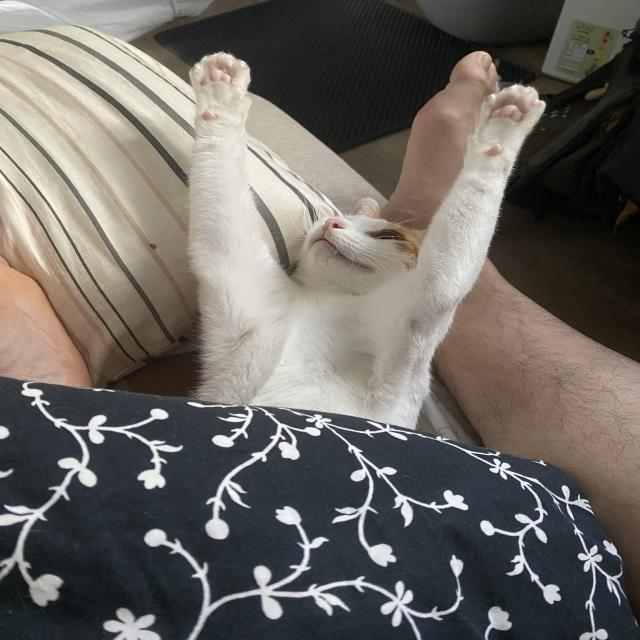cat1: (181, 50, 551, 438)
